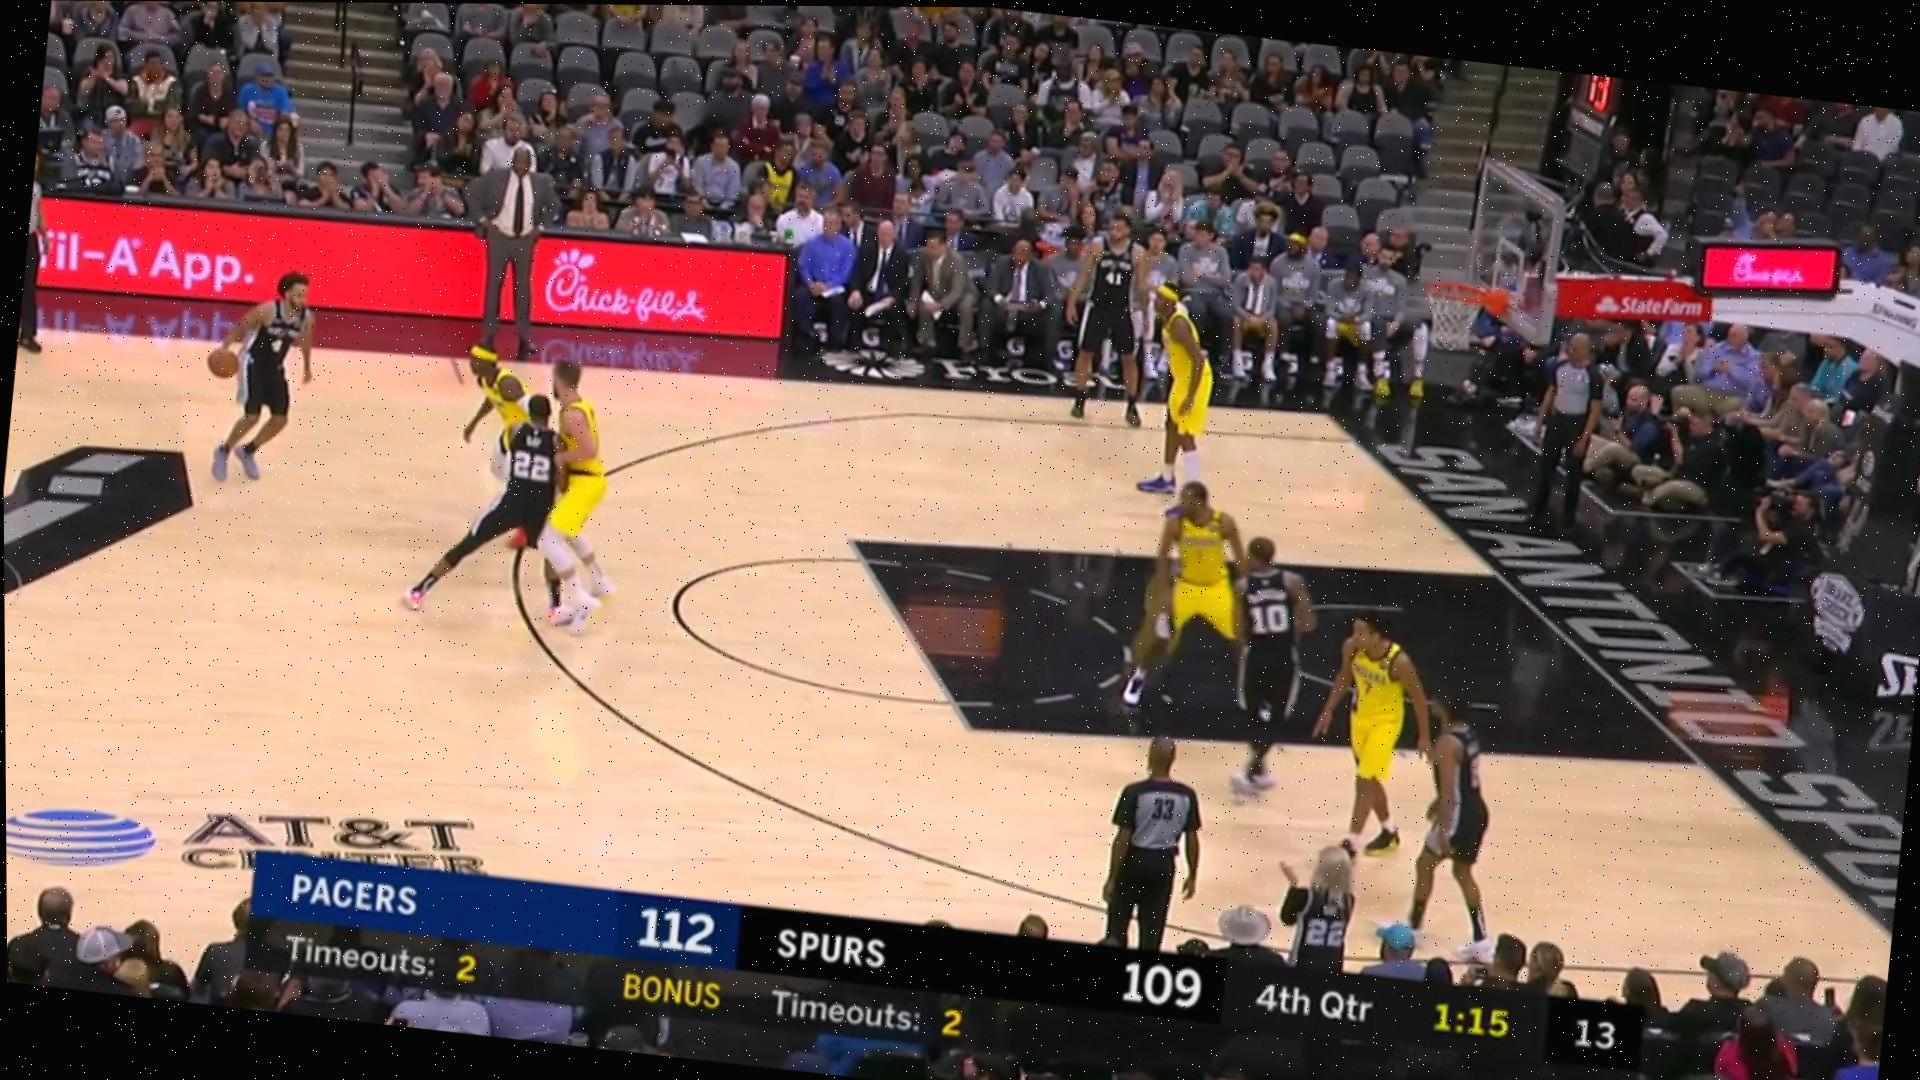no_foul: (484, 334, 632, 638)
